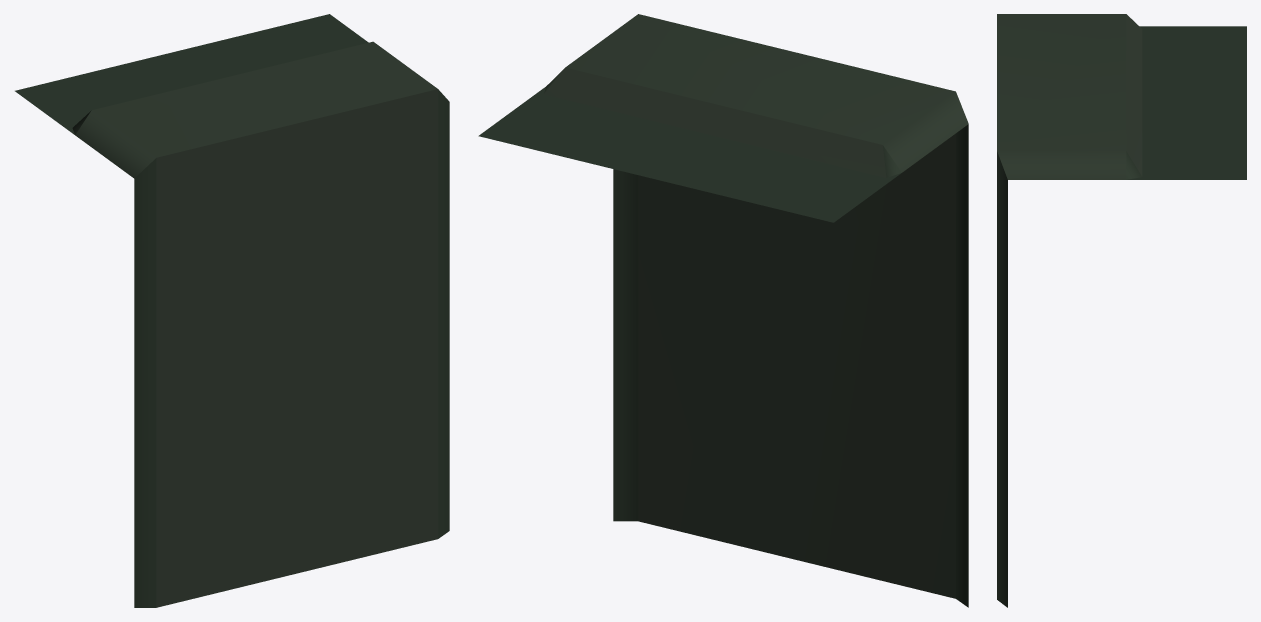
The model's file is SF_Bld_Elven_Blockwall_04.glb.
The picture shows the model from 3 angles, left to right: view 1: azimuth 30°, elevation 25°; view 2: azimuth 150°, elevation 25°; view 3: azimuth 270°, elevation 25°; orthographic projection. The views are drawn at different scales.
Visible parts, largest first — view 1: SF_Bld_Elven_Blockwall_04; view 2: SF_Bld_Elven_Blockwall_04; view 3: SF_Bld_Elven_Blockwall_04.
Boxes of the visible parts, x1,y1,x2,y2 form: SF_Bld_Elven_Blockwall_04: [15, 14, 449, 607]; SF_Bld_Elven_Blockwall_04: [478, 14, 968, 607]; SF_Bld_Elven_Blockwall_04: [997, 14, 1246, 607].
Size of the model in its own units: 0.075 by 0.1023 by 0.0516.
1 material, 1 textured.
